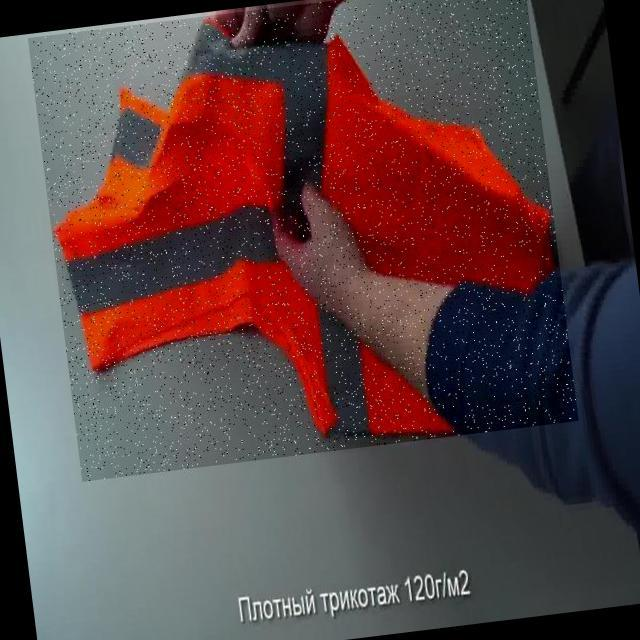Safety Vest: (27, 0, 578, 481)
bare-arms: (263, 172, 408, 338), (223, 0, 339, 54)
